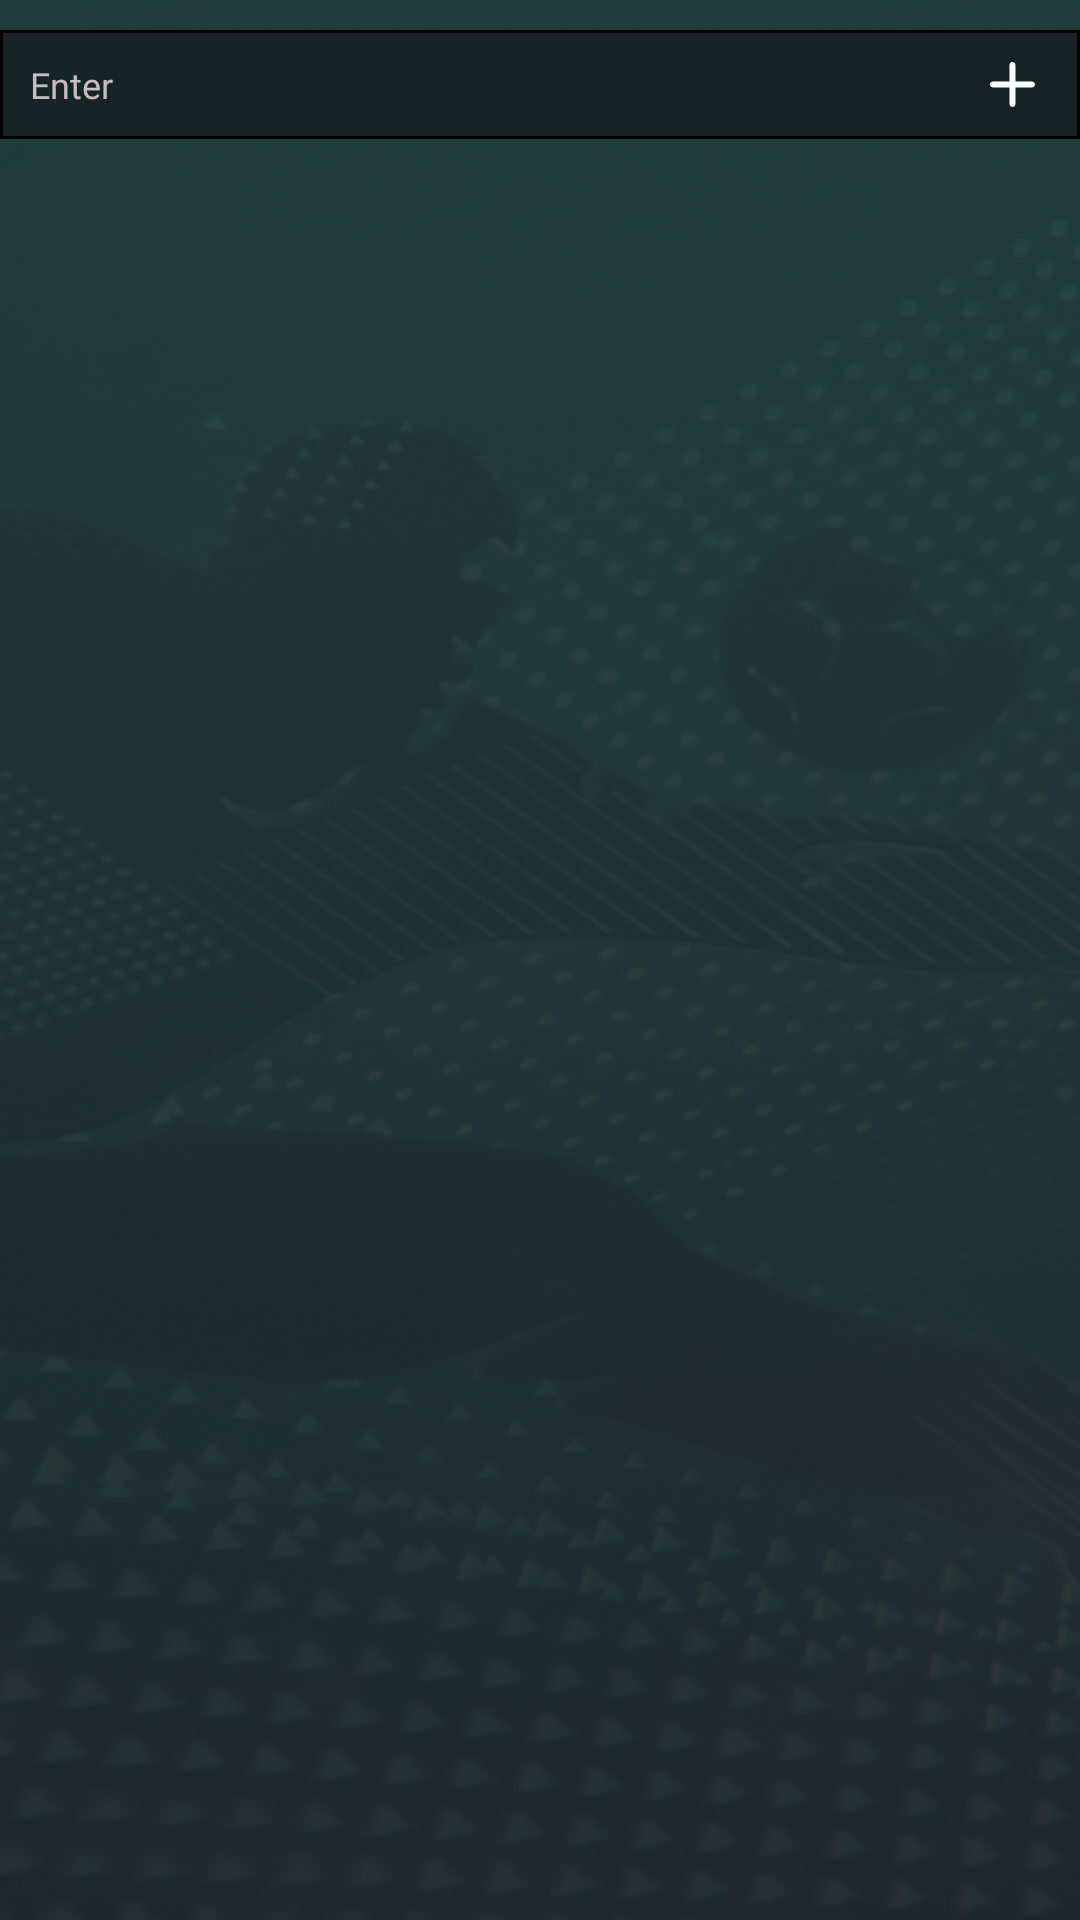

Named icons in this screenshot (1080 × 1920) and their centers, point (x, y):
plus: point (1012, 84)
